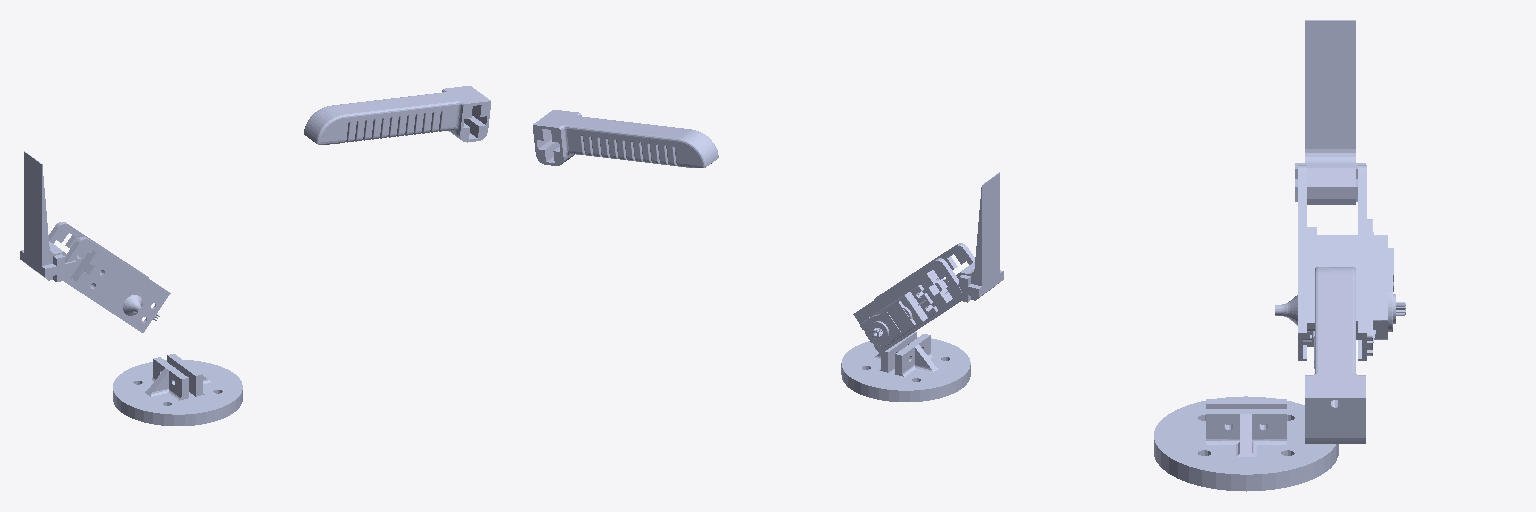
URDF robot description (hybrid_griper_v3):
<?xml version="1.0" encoding="utf-8"?>
<!-- This URDF was automatically created by SolidWorks to URDF Exporter! Originally created by [author] ([email redacted])
     Commit Version: 1.5.1-0-g916b5db  Build Version: 1.5.7152.31018
     For more information, please see http://wiki.ros.org/sw_urdf_exporter -->
<robot
  name="hybrid_griper_v3">
  <link
    name="base_link2">
    <inertial>
      <origin
        xyz="-0.000320761764060993 -0.0099655398508367 0.0371236864658835"
        rpy="0 0 0" />
      <mass
        value="0.175783856174279" />
      <inertia
        ixx="0.000113489188478817"
        ixy="5.61258211541969E-06"
        ixz="2.09431938452274E-06"
        iyy="8.64631177239551E-05"
        iyz="-7.66839121143775E-06"
        izz="0.000173058088601769" />
    </inertial>
    <visual>
      <origin
        xyz="0 0 0"
        rpy="0 0 0" />
      <geometry>
        <mesh
          filename="package://hybrid_griper_v3/meshes/base_link.STL" />
      </geometry>
      <material
        name="">
        <color
          rgba="0.792156862745098 0.819607843137255 0.933333333333333 1" />
      </material>
    </visual>
    <collision>
      <origin
        xyz="0 0 0"
        rpy="0 0 0" />
      <geometry>
        <mesh
          filename="package://hybrid_griper_v3/meshes/base_link.STL" />
      </geometry>
    </collision>
  </link>
  <link
    name="soft_tip_link">
    <inertial>
      <origin
        xyz="0.0513127009948888 5.77278609636966E-08 -0.043364297507428"
        rpy="0 0 0" />
      <mass
        value="0.0267549348618613" />
      <inertia
        ixx="2.15591207240061E-05"
        ixy="5.21330174564123E-11"
        ixz="1.8473049274251E-05"
        iyy="3.93840137119763E-05"
        iyz="-3.51868336287335E-11"
        izz="1.9846792382987E-05" />
    </inertial>
    <visual>
      <origin
        xyz="0 0 0"
        rpy="0 0 0" />
      <geometry>
        <mesh
          filename="package://hybrid_griper_v3/meshes/soft_tip_link.STL" />
      </geometry>
      <material
        name="">
        <color
          rgba="0.792156862745098 0.819607843137255 0.933333333333333 1" />
      </material>
    </visual>
    <collision>
      <origin
        xyz="0 0 0"
        rpy="0 0 0" />
      <geometry>
        <mesh
          filename="package://hybrid_griper_v3/meshes/soft_tip_link.STL" />
      </geometry>
    </collision>
  </link>
  <joint
    name="soft_tip_joint"
    type="fixed">
    <origin
      xyz="0.115964891681028 0.0385 0.133590429176335"
      rpy="0 0 -3.14159265358979" />
    <parent
      link="base_link2" />
    <child
      link="soft_tip_link" />
    <axis
      xyz="0 0 0" />
  </joint>
  <link
    name="rigid_link">
    <inertial>
      <origin
        xyz="-9.54097911787244E-18 -0.0118136347871613 0"
        rpy="0 0 0" />
      <mass
        value="0.000820983994919956" />
      <inertia
        ixx="5.00055618867767E-08"
        ixy="-2.09116447093901E-24"
        ixz="2.61223821261459E-08"
        iyy="7.32461854429735E-08"
        iyz="6.33548442265733E-24"
        izz="2.70905511726658E-08" />
    </inertial>
    <visual>
      <origin
        xyz="0 0 0"
        rpy="0 0 0" />
      <geometry>
        <mesh
          filename="package://hybrid_griper_v3/meshes/rigid_link.STL" />
      </geometry>
      <material
        name="">
        <color
          rgba="0.792156862745098 0.819607843137255 0.933333333333333 1" />
      </material>
    </visual>
    <collision>
      <origin
        xyz="0 0 0"
        rpy="0 0 0" />
      <geometry>
        <mesh
          filename="package://hybrid_griper_v3/meshes/rigid_link.STL" />
      </geometry>
    </collision>
  </link>
  <joint
    name="rigid_joint"
    type="revolute">
    <origin
      xyz="-0.018 0.03725 0.06"
      rpy="0 0 0" />
    <parent
      link="base_link2" />
    <child
      link="rigid_link" />
    <axis
      xyz="0 1 0" />
    <limit
      lower="0"
      upper="0"
      effort="0"
      velocity="0" />
  </joint>
  <link
    name="rigid_tip_link">
    <inertial>
      <origin
        xyz="-0.0460123173688864 -7.42043869092768E-05 -0.0782913856748643"
        rpy="0 0 0" />
      <mass
        value="0.0186208014040289" />
      <inertia
        ixx="1.68517477689943E-05"
        ixy="-2.45100679286071E-08"
        ixz="-9.50164820507282E-06"
        iyy="2.1951785283255E-05"
        iyz="-4.05772453693031E-08"
        izz="6.37021409822806E-06" />
    </inertial>
    <visual>
      <origin
        xyz="0 0 0"
        rpy="0 0 0" />
      <geometry>
        <mesh
          filename="package://hybrid_griper_v3/meshes/rigid_tip_link.STL" />
      </geometry>
      <material
        name="">
        <color
          rgba="0.792156862745098 0.819607843137255 0.933333333333333 1" />
      </material>
    </visual>
    <collision>
      <origin
        xyz="0 0 0"
        rpy="0 0 0" />
      <geometry>
        <mesh
          filename="package://hybrid_griper_v3/meshes/rigid_tip_link.STL" />
      </geometry>
    </collision>
  </link>
  <joint
    name="rigid_tip_joint"
    type="fixed">
    <origin
      xyz="-0.0637502271835644 0 0.107657180596762"
      rpy="0 0 3.14159265358979" />
    <parent
      link="rigid_link" />
    <child
      link="rigid_tip_link" />
    <axis
      xyz="0 0 0" />
  </joint>
</robot>

--- Render facts (derived) ---
The picture shows the robot from 3 angles, left to right: view 1: azimuth 30°, elevation 25°; view 2: azimuth 150°, elevation 25°; view 3: azimuth 270°, elevation 25°; orthographic projection.
Robot: hybrid_griper_v3 — 4 links, 3 joints (1 revolute, 2 fixed); root link base_link2; default pose: every joint at zero.
Visible links, largest first — view 1: soft_tip_link, base_link2, rigid_link, rigid_tip_link; view 2: soft_tip_link, base_link2, rigid_link, rigid_tip_link; view 3: base_link2, rigid_tip_link, rigid_link, soft_tip_link.
Link boxes in pixels (x1,y1,x2,y2): soft_tip_link: (304, 86, 490, 144); base_link2: (113, 354, 242, 425); rigid_link: (49, 222, 170, 332); rigid_tip_link: (20, 151, 75, 281); soft_tip_link: (533, 110, 718, 167); base_link2: (841, 331, 970, 401); rigid_link: (853, 243, 974, 353); rigid_tip_link: (948, 172, 1003, 302); base_link2: (1154, 396, 1338, 491); rigid_tip_link: (1295, 20, 1365, 204); rigid_link: (1275, 165, 1405, 368); soft_tip_link: (1305, 267, 1365, 443).
Bounding box of the posed robot: 0.3189 × 0.1089 × 0.1677 m (x, y, z).
4 mesh visuals loaded from 4 distinct referenced files (4 binary STL).